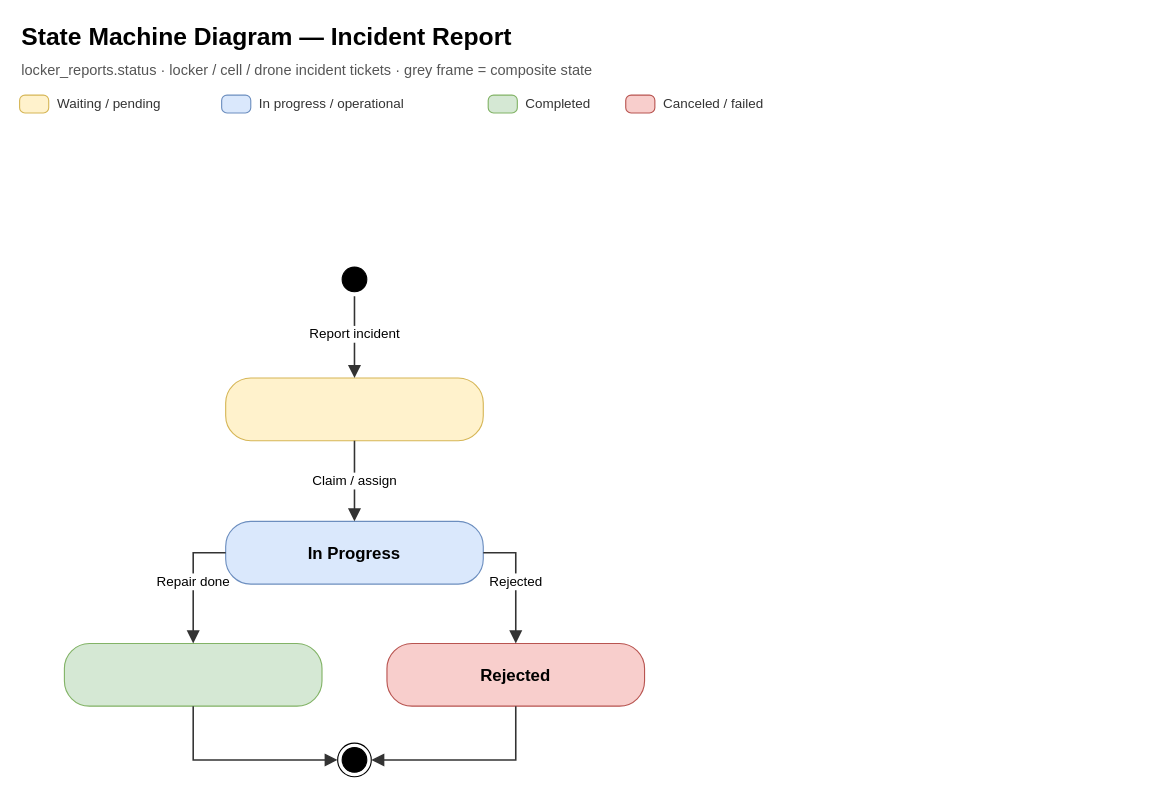
Image size: 1159x797. Some labels were removed from this diagram. Here are the shapes that lost their labels. From the top down, the centre of each, then its label:
the point at 354,409: Open
the point at 192,674: Resolved
